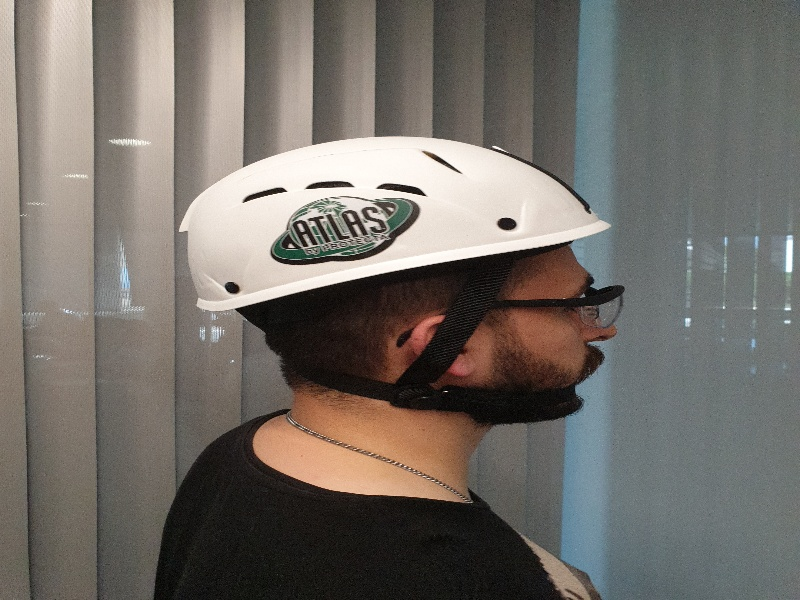Baret: (181, 135, 614, 295)
Gozluk: (487, 286, 627, 326)
